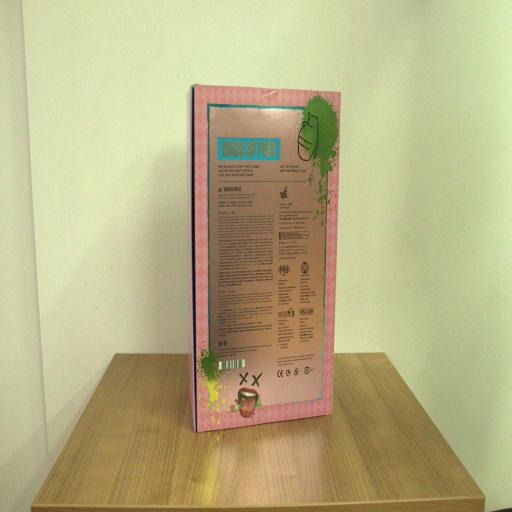Harley: (185, 82, 342, 432)
